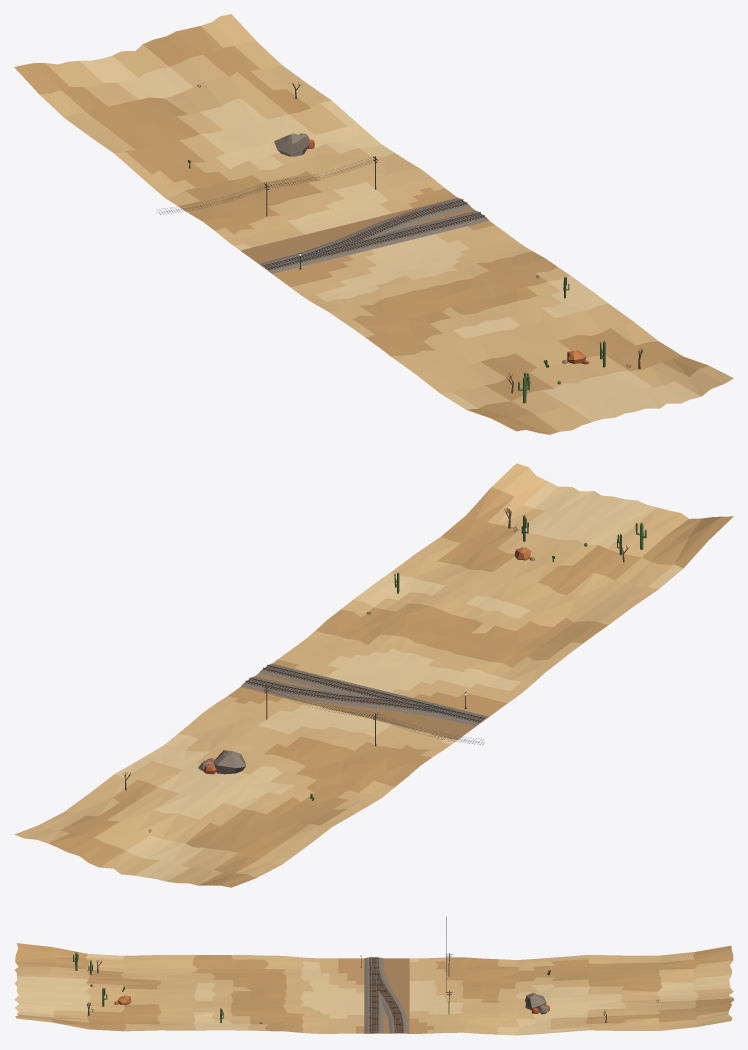
File: SM_FG_Chunk_SideTrack_Start_A.fbx
3 renders of one model, top to bottom at view 1: azimuth 30°, elevation 25°; view 2: azimuth 150°, elevation 25°; view 3: azimuth 270°, elevation 25°, orthographic. The views are drawn at different scales.
Parts seen in each view (by area): view 1: FG_Chunk_SideTrack_Start_A_Track; view 2: FG_Chunk_SideTrack_Start_A_Track; view 3: FG_Chunk_SideTrack_Start_A_Track.
Boxes of the visible parts, x1,y1,x2,y2 form: FG_Chunk_SideTrack_Start_A_Track: (14,14,733,434); FG_Chunk_SideTrack_Start_A_Track: (14,463,733,887); FG_Chunk_SideTrack_Start_A_Track: (14,916,733,1035).
Bounding box in the file's own units: 6250 × 823 × 20150.
